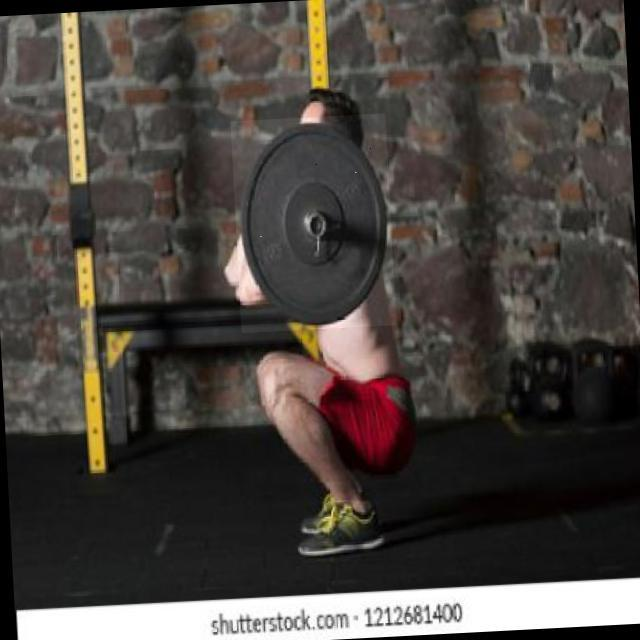barbell: (232, 114, 398, 334)
